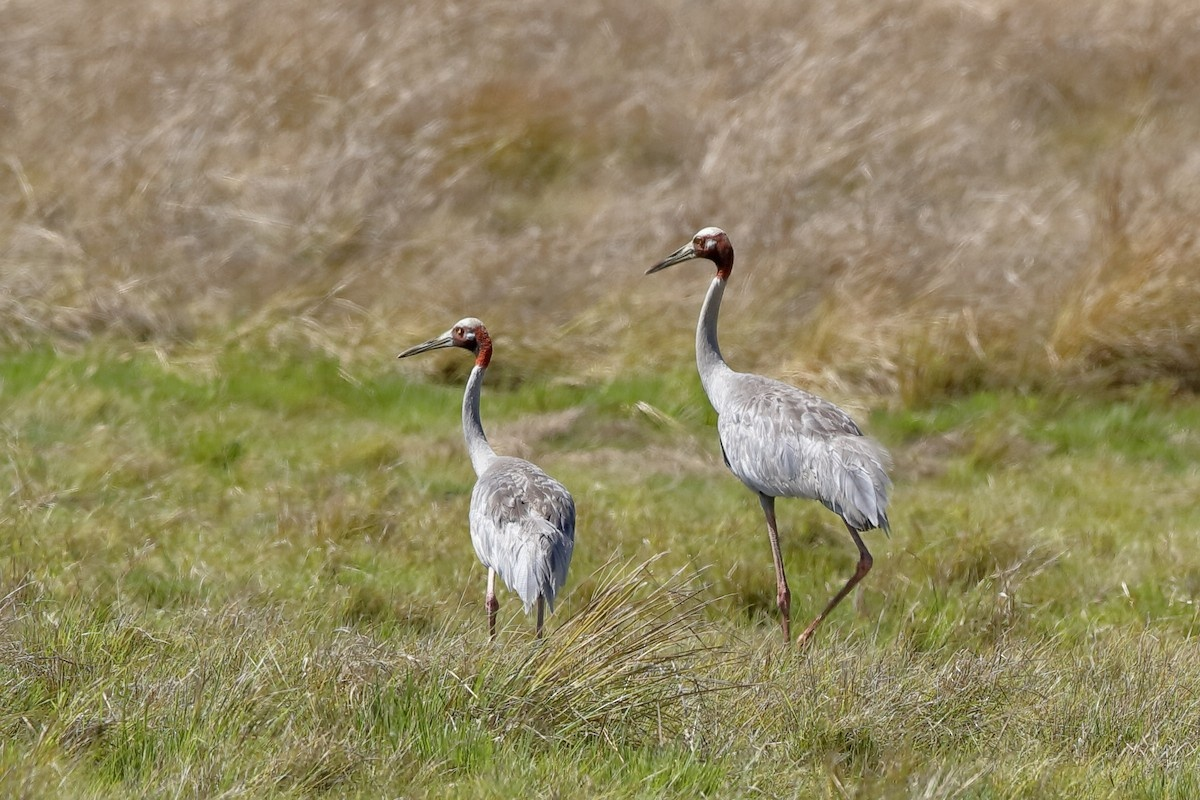crane: (643, 215, 909, 640), (398, 307, 588, 638)
